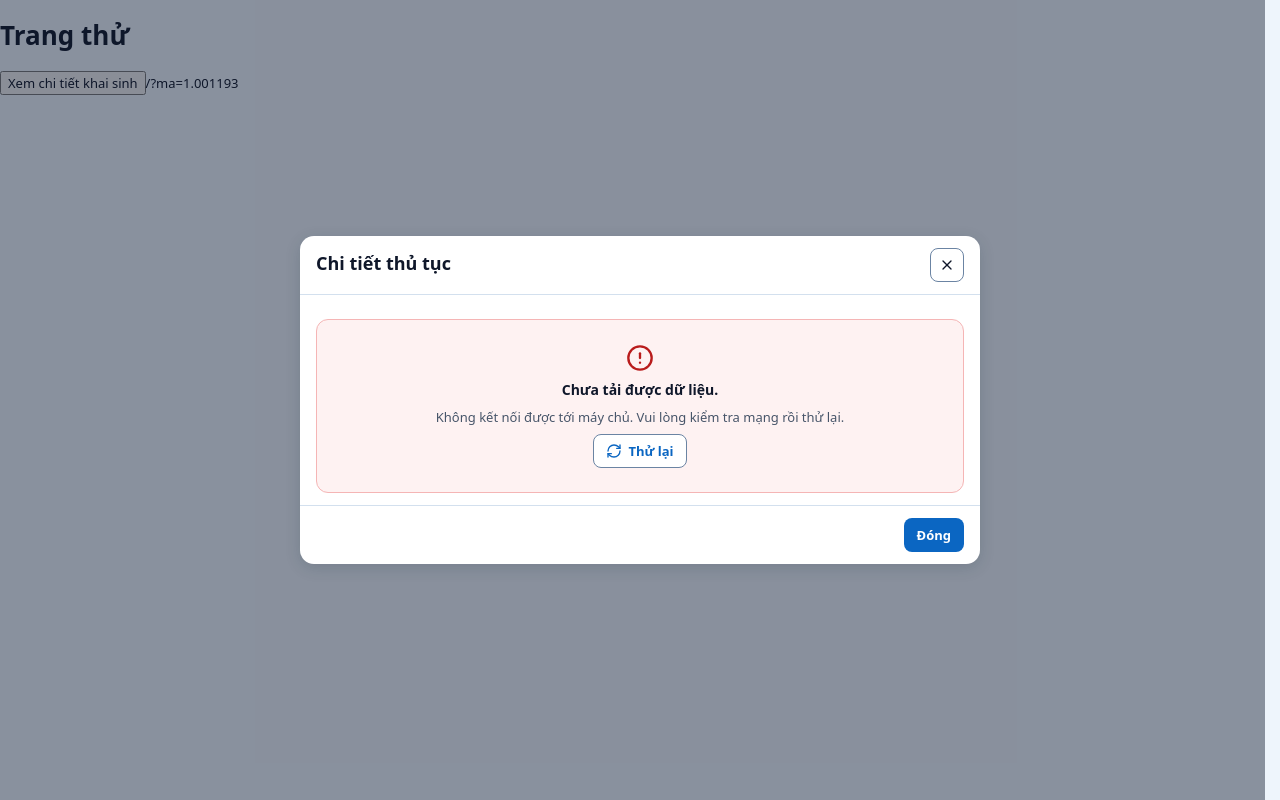
ThuTucPopup: mã không có, mã sai, lỗi › lỗi mạng: ErrorState có "Thử lại"; bấm thì gọi lại fetch và hiện nội dung
The image size is (1280, 800).
Expected: the message is shown, [316, 319, 964, 493]
Click the button "Thử lại" at (640, 451), box [593, 434, 686, 468]
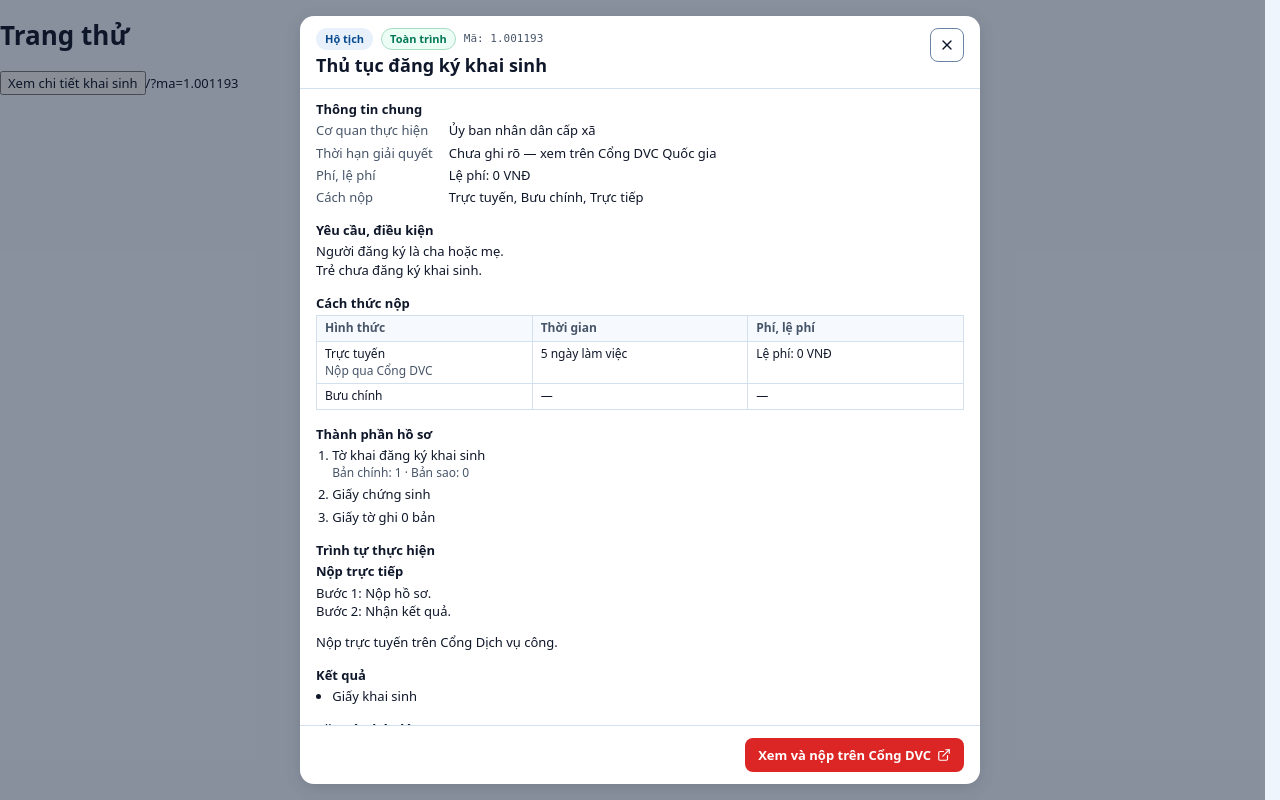
Expected: the dialog "Thủ tục đăng ký khai sinh" is shown, [300, 16, 980, 784]
